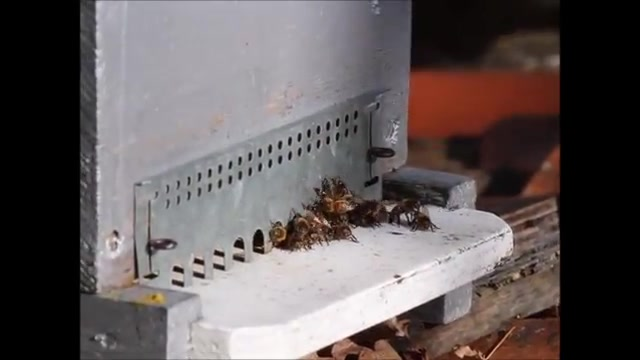bee: (390, 198, 437, 233), (267, 221, 309, 251), (313, 193, 354, 219), (309, 220, 356, 242), (353, 201, 384, 228)
